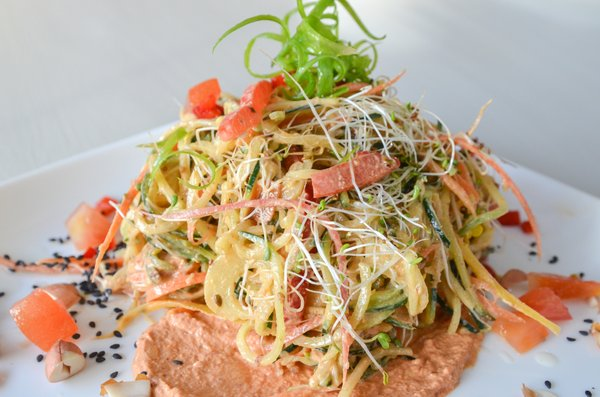pizza: (10, 286, 79, 352)
sandwich: (36, 61, 580, 396)
